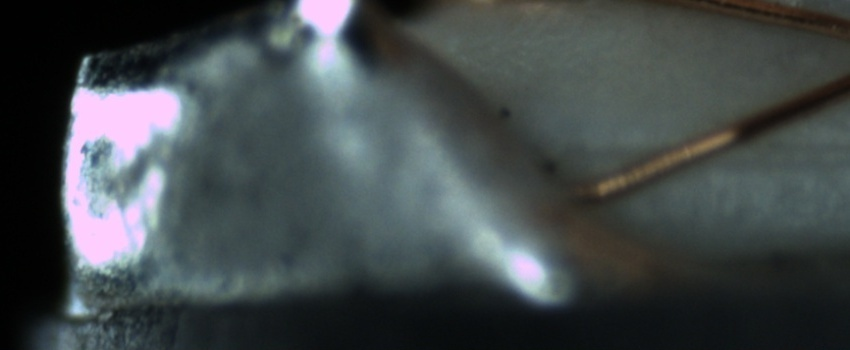DL: (621, 114, 850, 184)
